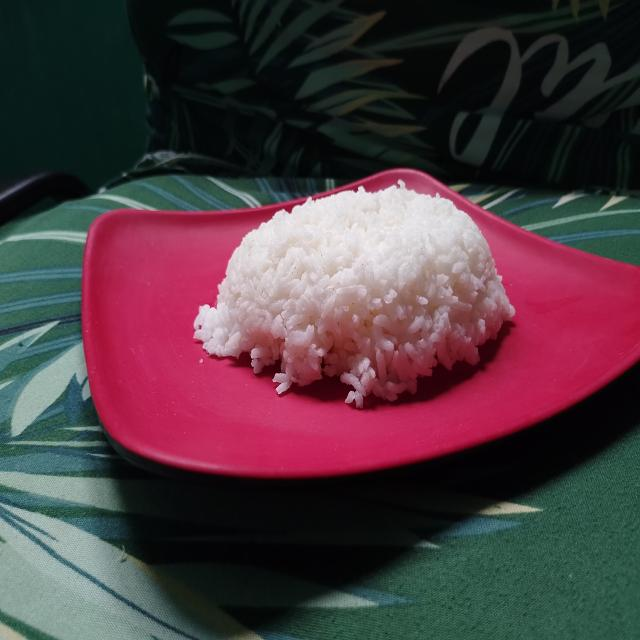Chicken -Chicken Inasal-: (178, 173, 523, 417)
